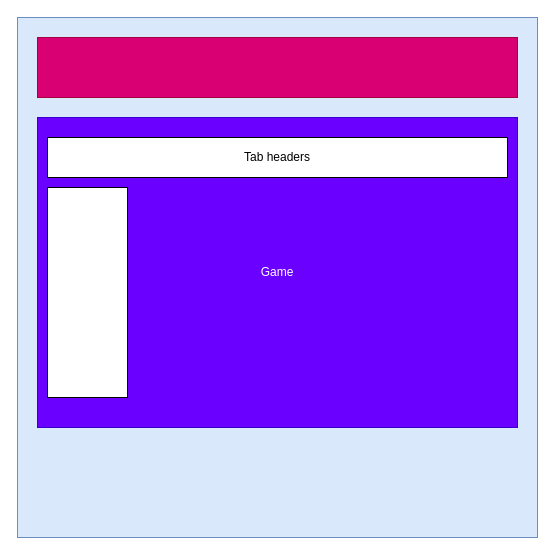
This 555x555 diagram has some shape labels left out. Here are the shapes that lost their labels. From the top down, the centre of each, then its label:
At pixel 277 67: "Header".
At pixel 87 292: "Players List".
